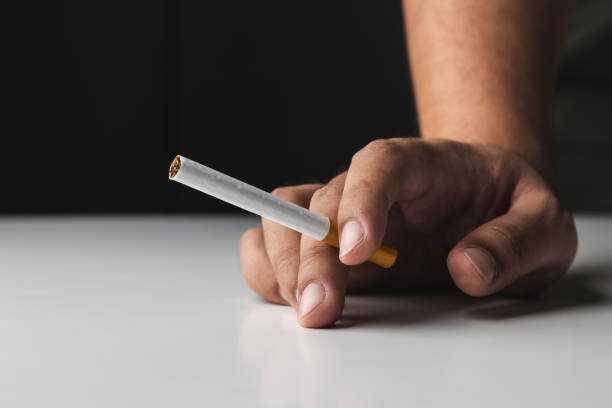cigarette: (166, 154, 399, 267)
